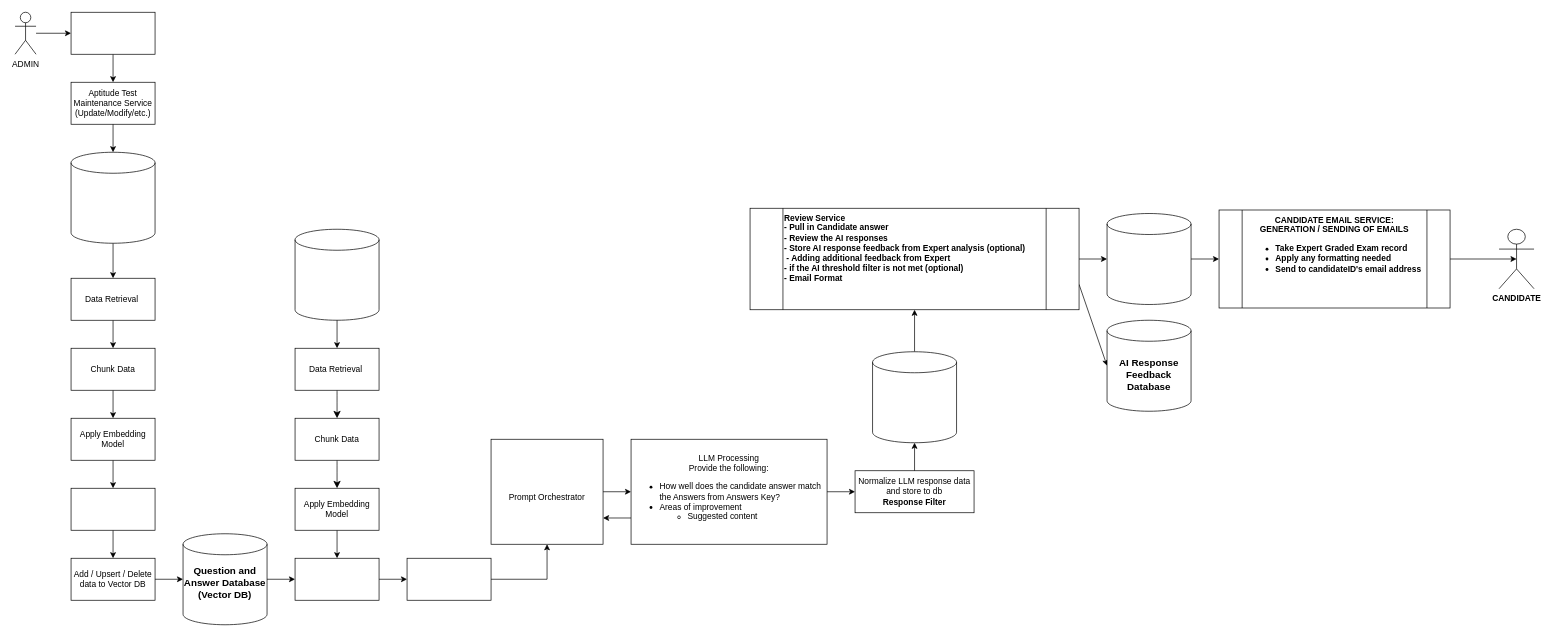
Image size: 1553x637. Some labels were removed from this diagram. Each missing label, with the box of its shape:
AI Graded Test1 Database: (872, 351, 957, 443)
Apititude Test Database (Raw Questions and Answers ): (70, 152, 155, 243)
Aptitude Test Ungraded Database: (294, 229, 379, 320)
Expert Admin User Interface (Modify Questions & Answers, etc.): (70, 12, 155, 54)
Expert Graded Database Exam Database: (1106, 213, 1191, 304)
Index Data: (70, 488, 155, 530)
Prompt Validation: (406, 558, 491, 600)
Query Question and Answer Vector DB Apply Filtering Ranking: (294, 558, 379, 600)
